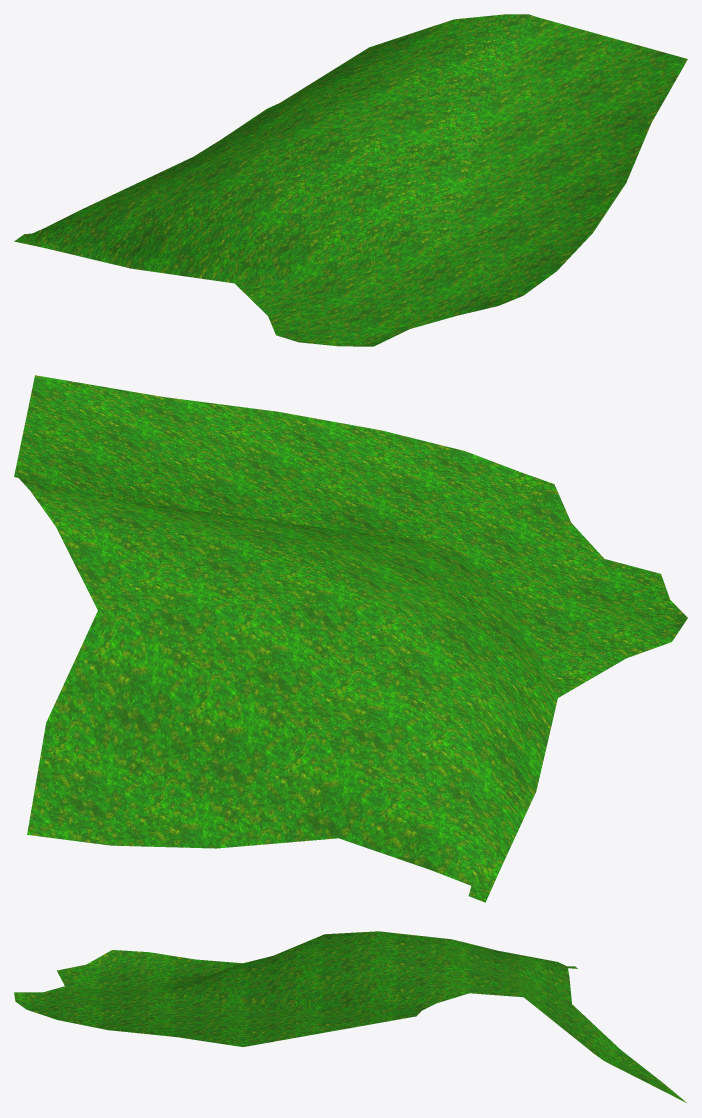
Rendered from HTOWN01_PS25.fbx.
3 views of the same model, one above another, from view 1: azimuth 30°, elevation 25°; view 2: azimuth 150°, elevation 25°; view 3: azimuth 270°, elevation 25° (orthographic). The views are drawn at different scales.
Parts seen in each view (by area): view 1: HTOWN01_PS25; view 2: HTOWN01_PS25; view 3: HTOWN01_PS25.
Part boxes in pixels (left/top/right/bottom): HTOWN01_PS25: left=14, top=14, right=687, bottom=346; HTOWN01_PS25: left=14, top=375, right=687, bottom=902; HTOWN01_PS25: left=14, top=931, right=686, bottom=1102.
Size of the model in its own units: 172885 by 55739 by 188315.
2 materials, 2 textured.
